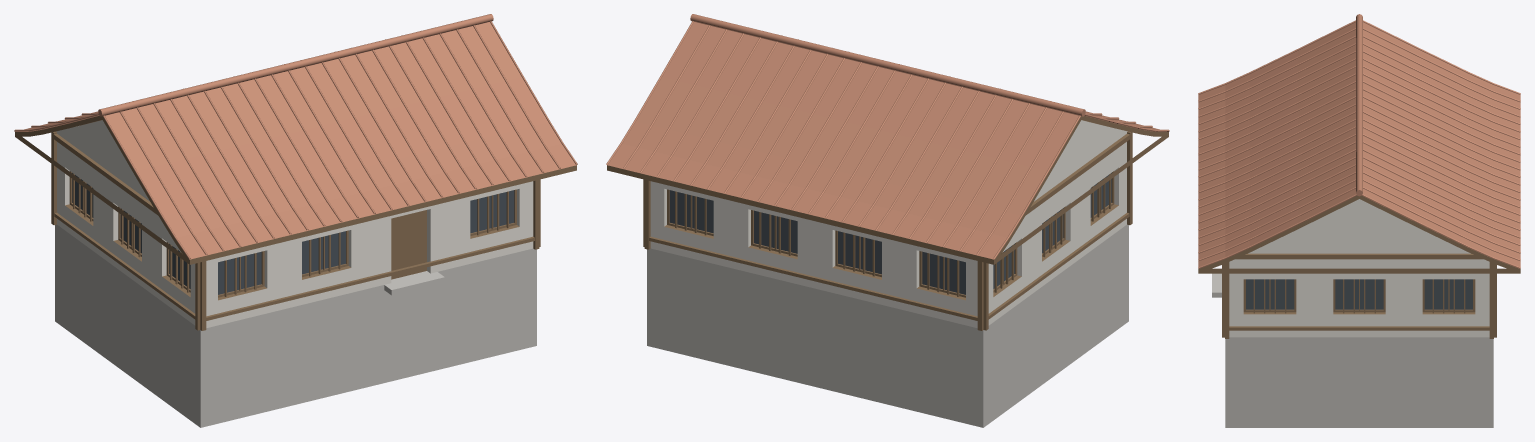
Rendered from japanese_house_1_m.glb.
The picture shows the model from 3 angles, left to right: view 1: azimuth 30°, elevation 25°; view 2: azimuth 150°, elevation 25°; view 3: azimuth 270°, elevation 25°; orthographic projection. The views are drawn at different scales.
Parts seen in each view (by area): view 1: japanese_house_1_m; view 2: japanese_house_1_m; view 3: japanese_house_1_m.
Part boxes in pixels (<box>): japanese_house_1_m: <box>14,14,577,427</box>; japanese_house_1_m: <box>606,14,1169,427</box>; japanese_house_1_m: <box>1198,14,1520,427</box>.
Bounding box in the file's own units: 13.96 × 9.26 × 10.83.
